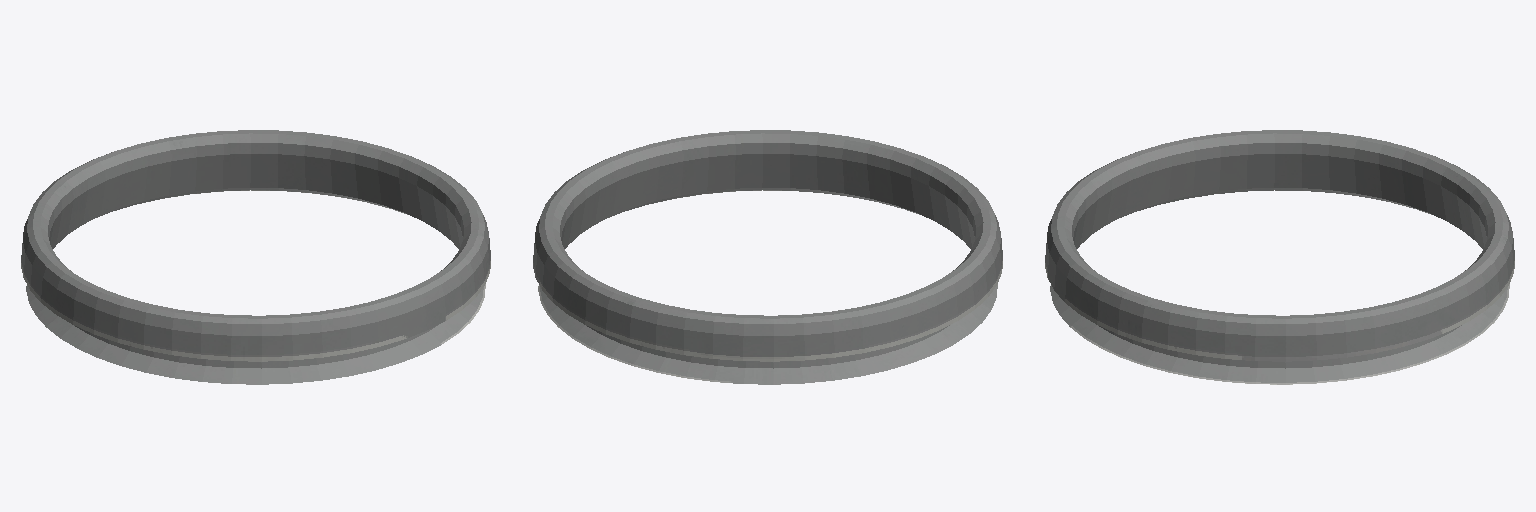
The picture shows the model from 3 angles: view 1: azimuth 30°, elevation 25°; view 2: azimuth 150°, elevation 25°; view 3: azimuth 270°, elevation 25°; orthographic projection.
Parts seen in each view (by area): view 1: Plastic_Collar_low; view 2: Plastic_Collar_low; view 3: Plastic_Collar_low.
Boxes of the visible parts, x1=… form: Plastic_Collar_low: x1=21, y1=130, x2=490, y2=384; Plastic_Collar_low: x1=533, y1=130, x2=1002, y2=384; Plastic_Collar_low: x1=1045, y1=130, x2=1514, y2=384.
Bounding box in the file's own units: 3.51 × 0.5212 × 3.51.
1 materials, 1 textured.